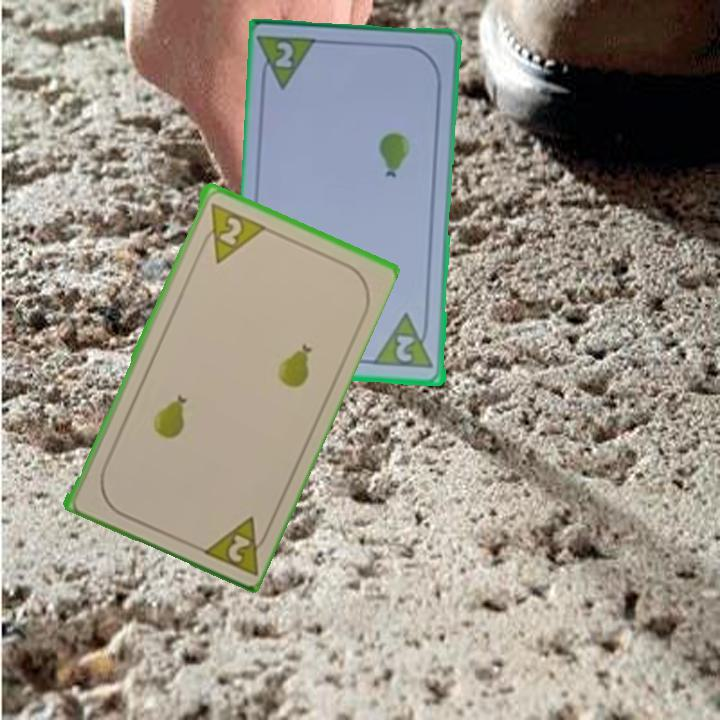2p: (196, 511, 275, 578), (196, 199, 266, 266), (256, 32, 322, 94), (373, 311, 437, 372)
